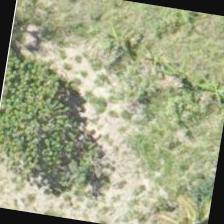Kelapa_Sawit: (134, 177, 214, 223)
